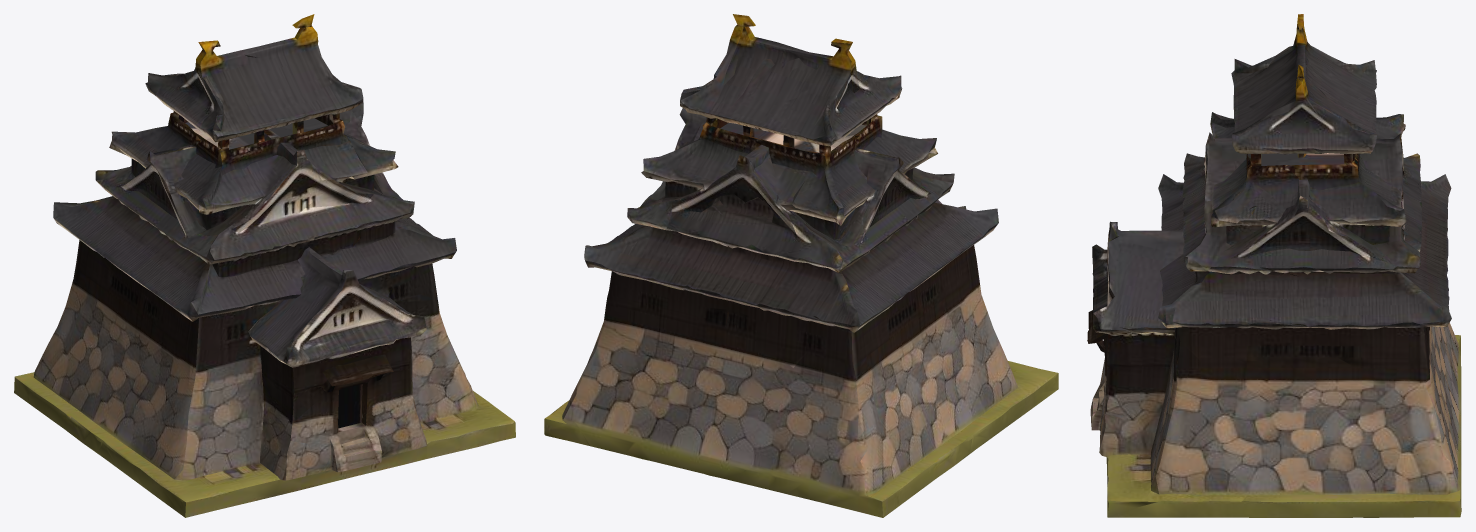
File: matsue-castle.glb
3 renders of one model, left to right at view 1: azimuth 30°, elevation 25°; view 2: azimuth 150°, elevation 25°; view 3: azimuth 270°, elevation 25°, orthographic. The views are drawn at different scales.
Parts seen in each view (by area): view 1: logan-textured.obj; view 2: logan-textured.obj; view 3: logan-textured.obj.
Part boxes in pixels (left/top/right/bottom): logan-textured.obj: left=14, top=14, right=515, bottom=517; logan-textured.obj: left=544, top=14, right=1058, bottom=517; logan-textured.obj: left=1087, top=14, right=1461, bottom=517.
Bounding box in the file's own units: 0.9105 × 1 × 0.8634.
Materials: 1 (1 with a texture image).
